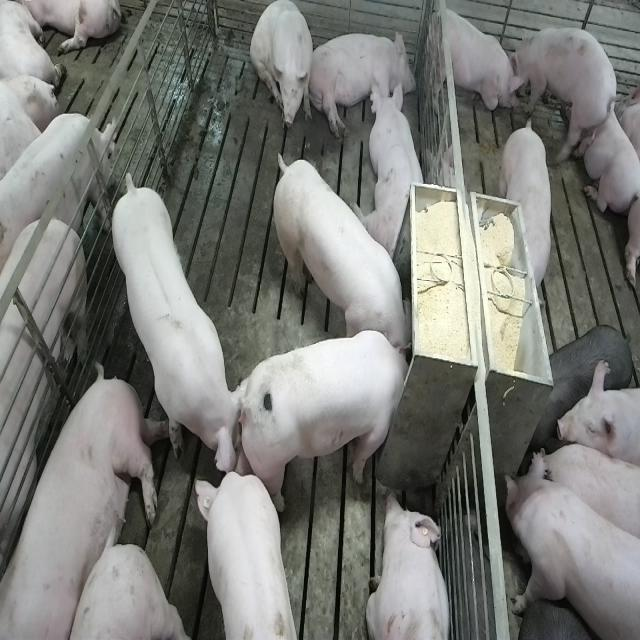Feeding: (246, 330, 419, 511), (268, 144, 411, 357)
Lateral_lying: (307, 28, 417, 140)
Sitting: (422, 0, 519, 123), (250, 2, 315, 137)
Standing: (110, 164, 251, 476), (0, 211, 88, 587), (503, 458, 638, 640), (0, 106, 113, 264), (193, 472, 295, 640), (509, 24, 617, 164), (533, 438, 637, 551), (535, 323, 635, 434), (503, 115, 556, 295), (560, 357, 640, 474)
Sternal_lying: (366, 489, 453, 640), (364, 80, 429, 262), (572, 85, 638, 212)
